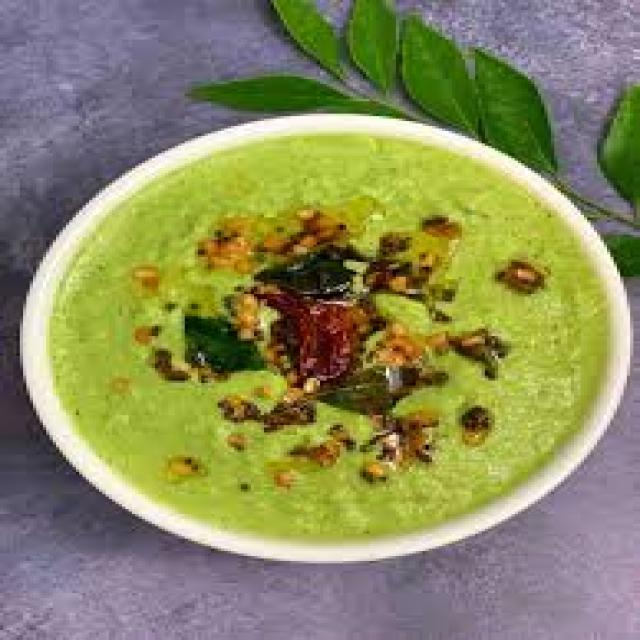GREEN CHUTNEY: (33, 124, 625, 566)
